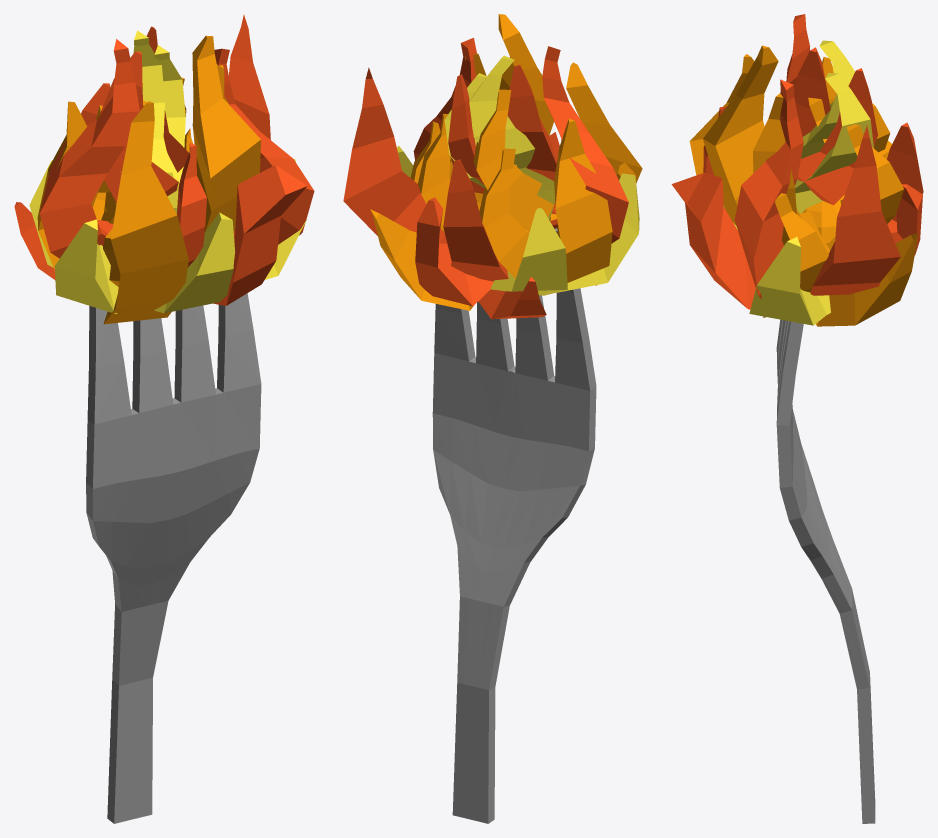
Rendered from FireForkTop2.glb.
3 renders of one model, left to right at view 1: azimuth 30°, elevation 25°; view 2: azimuth 150°, elevation 25°; view 3: azimuth 270°, elevation 25°, orthographic. The views are drawn at different scales.
Parts seen in each view (by area): view 1: Node, group702594773.001, group167038055, group702594773, group813435182, group1012330263, group1012330263.001, group167038055.001, group217930424, group1602184737, group1190332235, group1602184737.001 (+6 smaller); view 2: Node, group217930424, group1762201146, group167038055, group740134887, group1501086520, group300155229, group2112811785.004, group2112811785.003, group1602184737, group740134887.001, group702594773.001 (+7 smaller); view 3: Node, group217930424, group167038055.001, group702594773, group813435182, group1012330263.002, group1746021426, group1602184737.001, group740134887.002, group2112811785.001, group627047762, group740134887.001 (+7 smaller).
Boxes of the visible parts, bbox=[...] form: Node: bbox=[86, 293, 261, 823]; group702594773.001: bbox=[103, 101, 188, 324]; group167038055: bbox=[39, 39, 139, 258]; group702594773: bbox=[192, 35, 260, 231]; group813435182: bbox=[213, 165, 307, 305]; group1012330263: bbox=[54, 219, 118, 313]; group1012330263.001: bbox=[154, 212, 235, 313]; group167038055.001: bbox=[214, 48, 314, 244]; group217930424: bbox=[229, 14, 270, 139]; group1602184737: bbox=[120, 30, 177, 213]; group1190332235: bbox=[177, 142, 206, 267]; group1602184737.001: bbox=[154, 45, 185, 195]; Node: bbox=[432, 228, 596, 823]; group217930424: bbox=[343, 67, 447, 243]; group1762201146: bbox=[554, 119, 612, 282]; group167038055: bbox=[542, 46, 628, 243]; group740134887: bbox=[443, 159, 508, 281]; group1501086520: bbox=[415, 197, 493, 306]; group300155229: bbox=[490, 207, 567, 295]; group2112811785.004: bbox=[479, 148, 529, 278]; group2112811785.003: bbox=[473, 89, 541, 225]; group1602184737: bbox=[469, 55, 554, 219]; group740134887.001: bbox=[507, 64, 559, 180]; group702594773.001: bbox=[566, 62, 642, 285]; Node: bbox=[776, 319, 875, 823]; group217930424: bbox=[810, 125, 900, 295]; group167038055.001: bbox=[734, 79, 803, 298]; group702594773: bbox=[703, 45, 778, 225]; group813435182: bbox=[671, 172, 755, 309]; group1012330263.002: bbox=[749, 237, 830, 325]; group1746021426: bbox=[816, 233, 917, 326]; group1602184737.001: bbox=[794, 73, 873, 213]; group740134887.002: bbox=[797, 68, 877, 205]; group2112811785.001: bbox=[763, 193, 828, 317]; group627047762: bbox=[753, 93, 829, 253]; group740134887.001: bbox=[794, 47, 830, 136].
Bounding box in the file's own units: 1.25 × 3.76 × 1.1.
